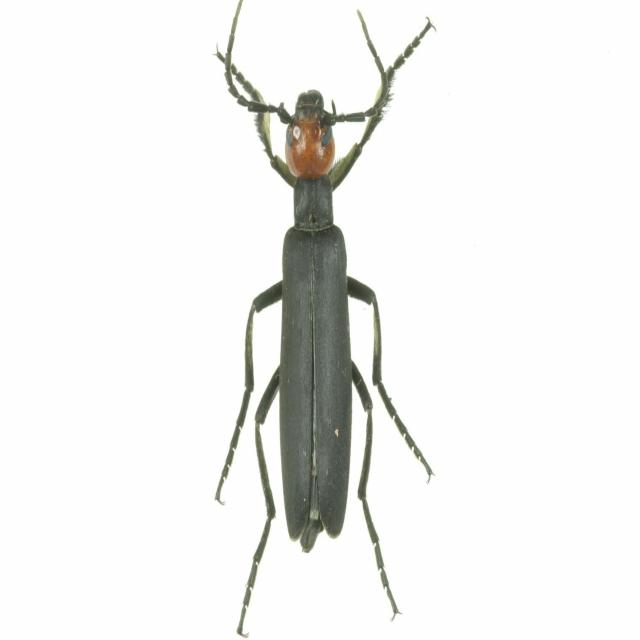BlisterBeetle-Adult-: (209, 2, 449, 622)
